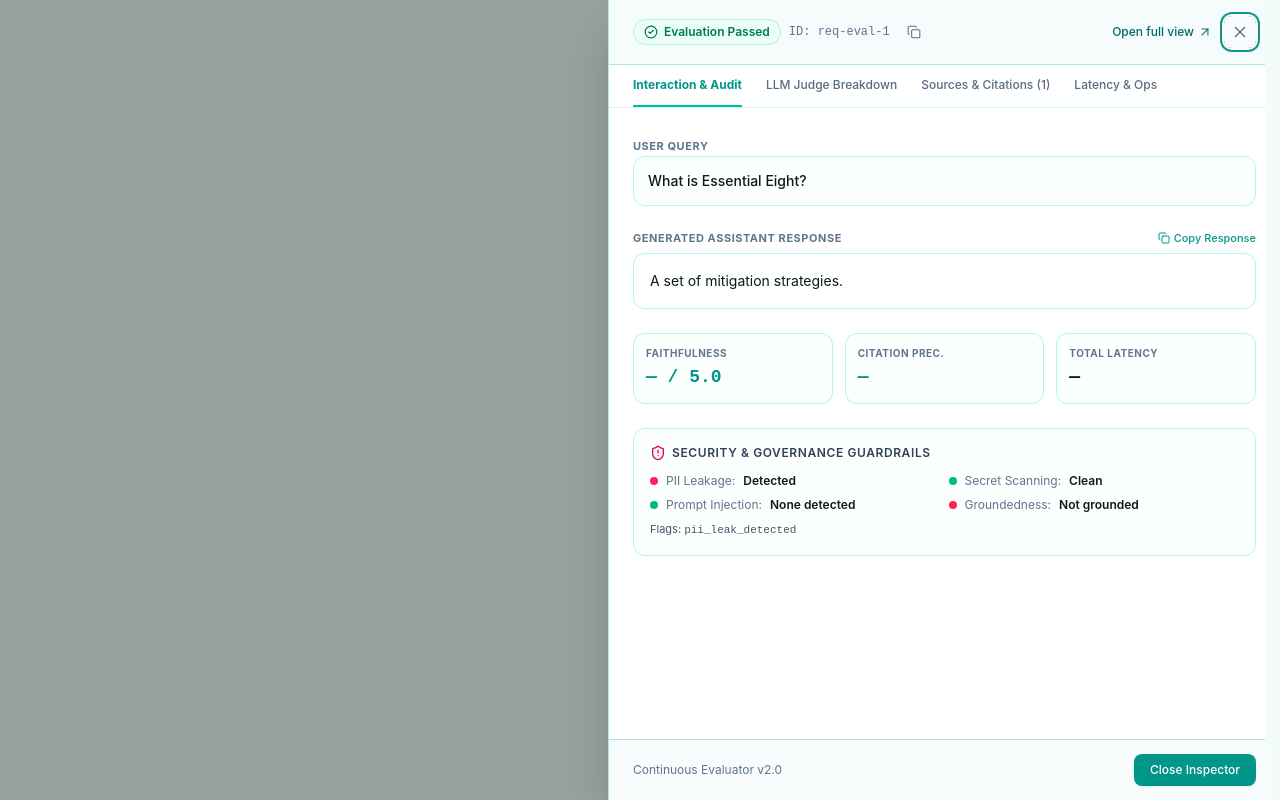
Test: inspectors show recorded data, not canned values › evaluation inspector: guardrails come from the record's flags; stage timings say not available
Click the button "Latency & Ops".
click(1116, 86)  # box [1074,65,1157,107]
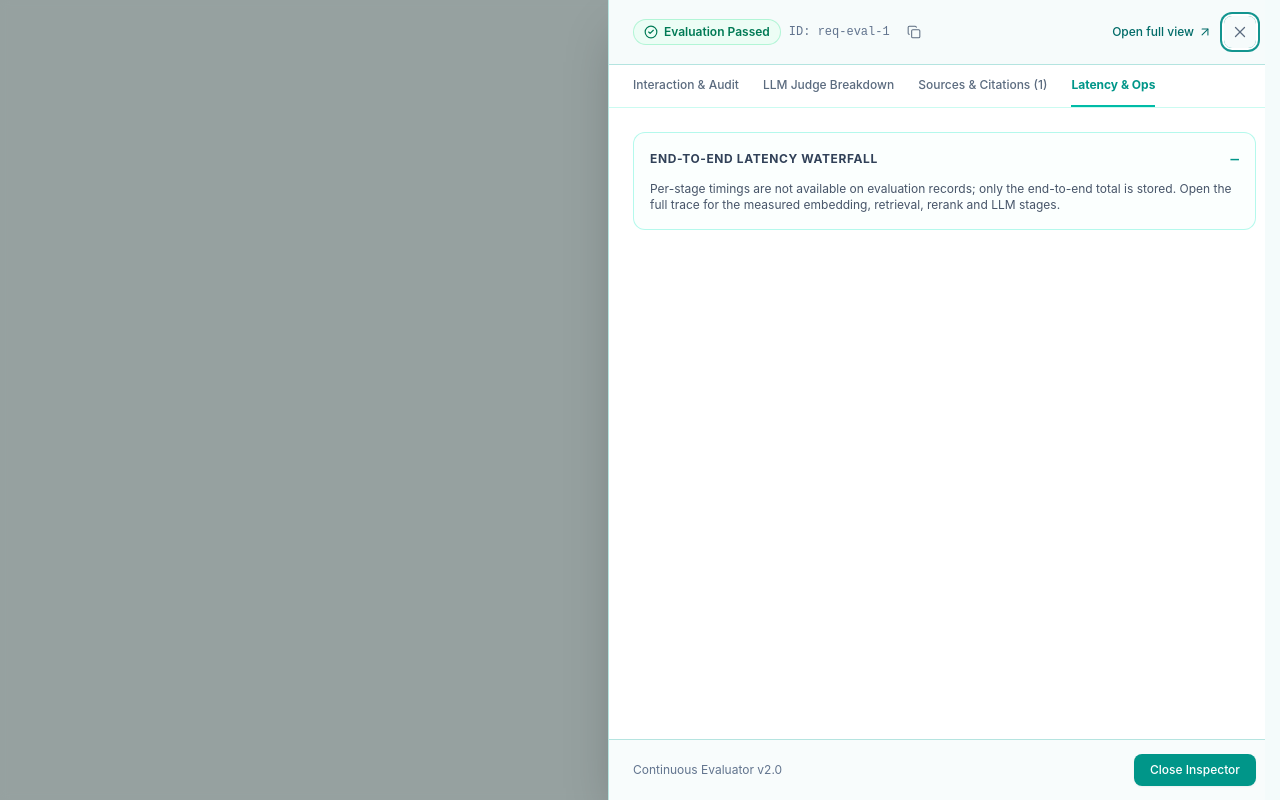
Check: the text with test id "inspector-stage-latency" shows "not available", box [650,181,1232,212]
Click the button "LLM Judge Breakdown".
click(829, 86)  # box [763,65,894,107]
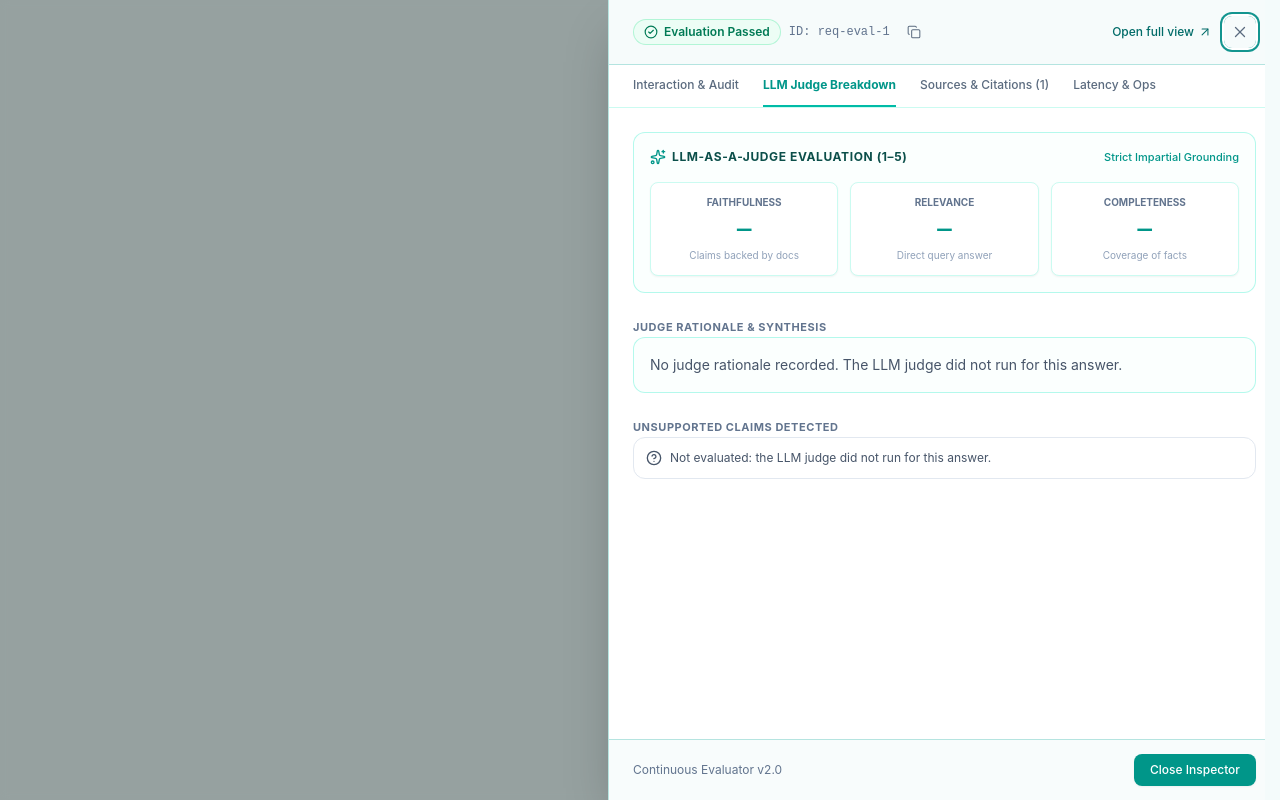
Check: the text "Not evaluated: the LLM judge did not run for this answer." is shown, box [670,450,991,466]
